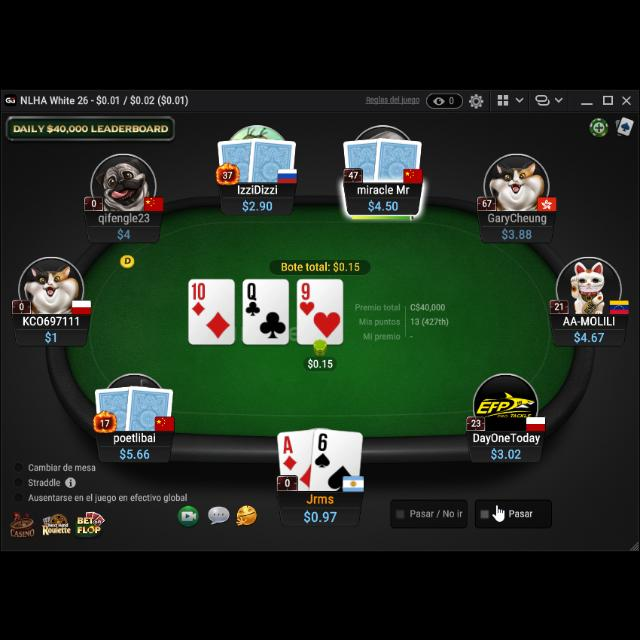6s: (314, 429, 332, 467)
9h: (298, 279, 316, 315)
Ad: (282, 432, 298, 470)
Qc: (244, 280, 262, 316)
Td: (190, 278, 208, 316)
bet_text: (306, 354, 334, 370)
card_back: (248, 132, 298, 184), (374, 134, 424, 184), (124, 381, 174, 431), (216, 134, 258, 184), (341, 136, 385, 182), (93, 383, 135, 431)
dealer: (118, 251, 136, 267)
pot_text: (282, 257, 362, 271)
stack_text: (303, 504, 339, 522), (500, 225, 534, 241), (366, 197, 400, 211), (118, 444, 152, 458), (242, 196, 274, 210), (573, 328, 605, 342), (490, 444, 522, 458), (116, 224, 132, 240), (44, 328, 58, 342)
